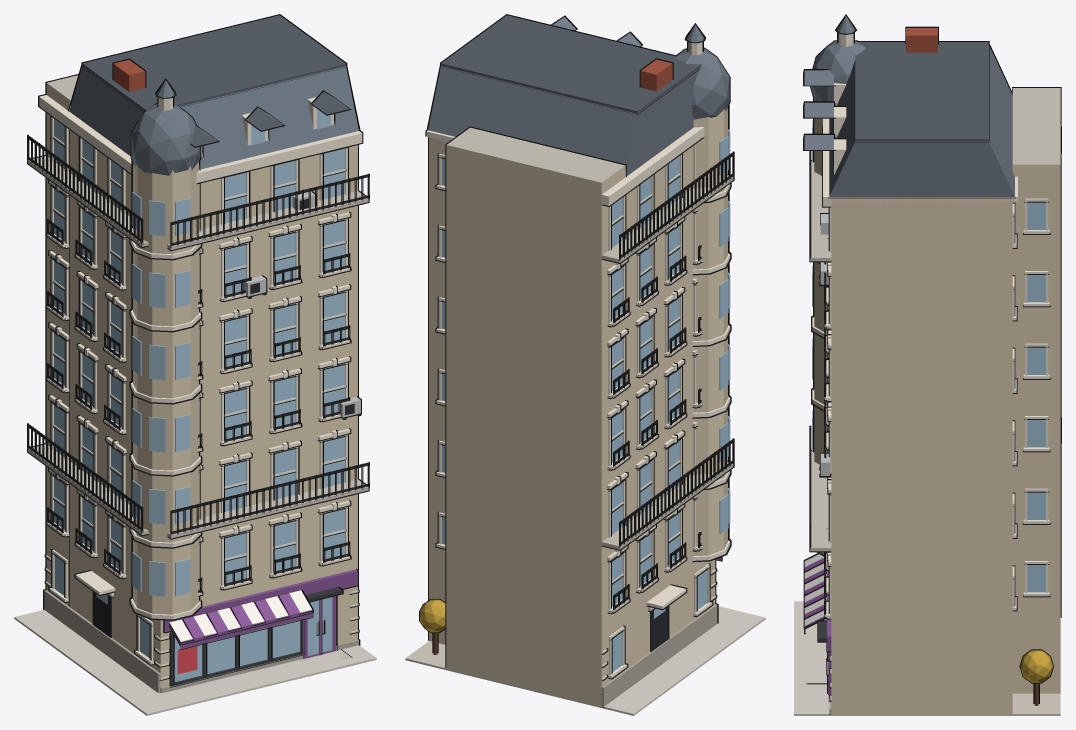
The model's file is Blok_kose_7k_1.fbx.
3 renders of one model, left to right at view 1: azimuth 30°, elevation 25°; view 2: azimuth 150°, elevation 25°; view 3: azimuth 270°, elevation 25°, orthographic.
Parts seen in each view (by area): view 1: Blok_kose_7k_1; view 2: Blok_kose_7k_1; view 3: Blok_kose_7k_1.
Part boxes in pixels (x1=…): Blok_kose_7k_1: x1=14, y1=14, x2=376, y2=715; Blok_kose_7k_1: x1=405, y1=14, x2=765, y2=715; Blok_kose_7k_1: x1=794, y1=14, x2=1061, y2=715.
Bounding box in the file's own units: 10.05 × 25.36 × 10.05.
